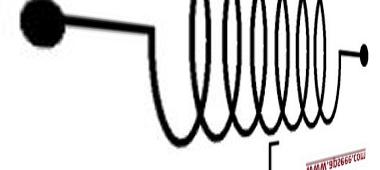inductor: (127, 2, 345, 147)
